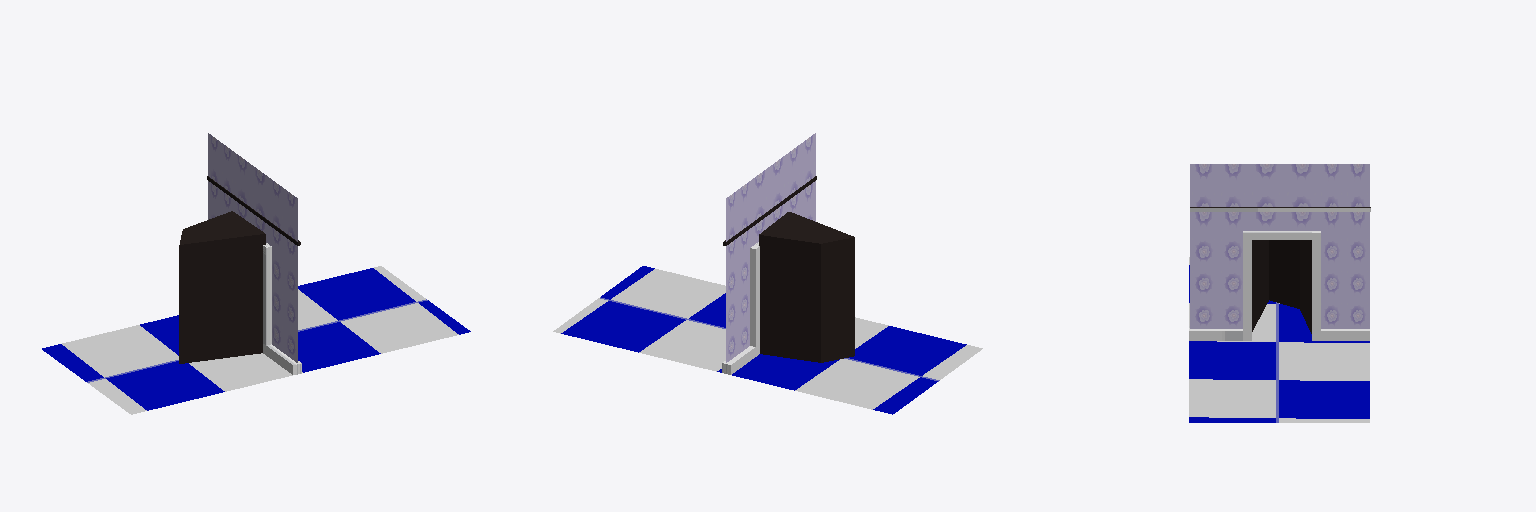
3 renders of one model, left to right at view 1: azimuth 30°, elevation 25°; view 2: azimuth 150°, elevation 25°; view 3: azimuth 270°, elevation 25°, orthographic.
Parts seen in each view (by area): view 1: pCube6, pCube9, walls, skirting_and_door_frame; view 2: pCube6, pCube9, walls, skirting_and_door_frame; view 3: walls, pCube6, pCube9, skirting_and_door_frame, pCube12.
Boxes of the visible parts, <box> form: pCube6: <box>42,266,470,414</box>; pCube9: <box>179,211,265,363</box>; walls: <box>208,133,297,362</box>; skirting_and_door_frame: <box>263,243,301,374</box>; pCube6: <box>553,266,982,414</box>; pCube9: <box>759,212,854,362</box>; walls: <box>726,133,815,362</box>; skirting_and_door_frame: <box>722,242,759,374</box>; walls: <box>1190,164,1369,328</box>; pCube6: <box>1189,257,1369,422</box>; pCube9: <box>1252,240,1311,333</box>; skirting_and_door_frame: <box>1189,231,1369,340</box>; pCube12: <box>1190,207,1370,211</box>.
Bounding box in the file's own units: 294 × 150 × 136.
Materials: 4 (4 with a texture image).